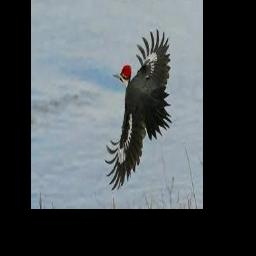Woodpecker: (104, 28, 172, 190)
